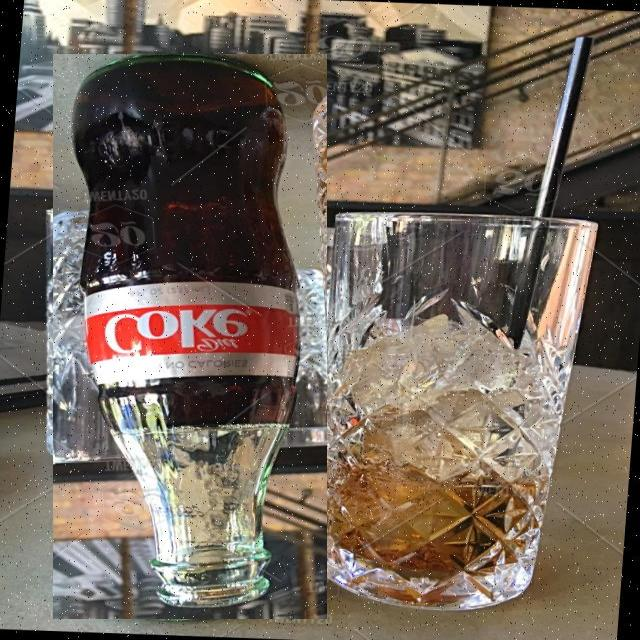coca-cola: (53, 54, 327, 619)
